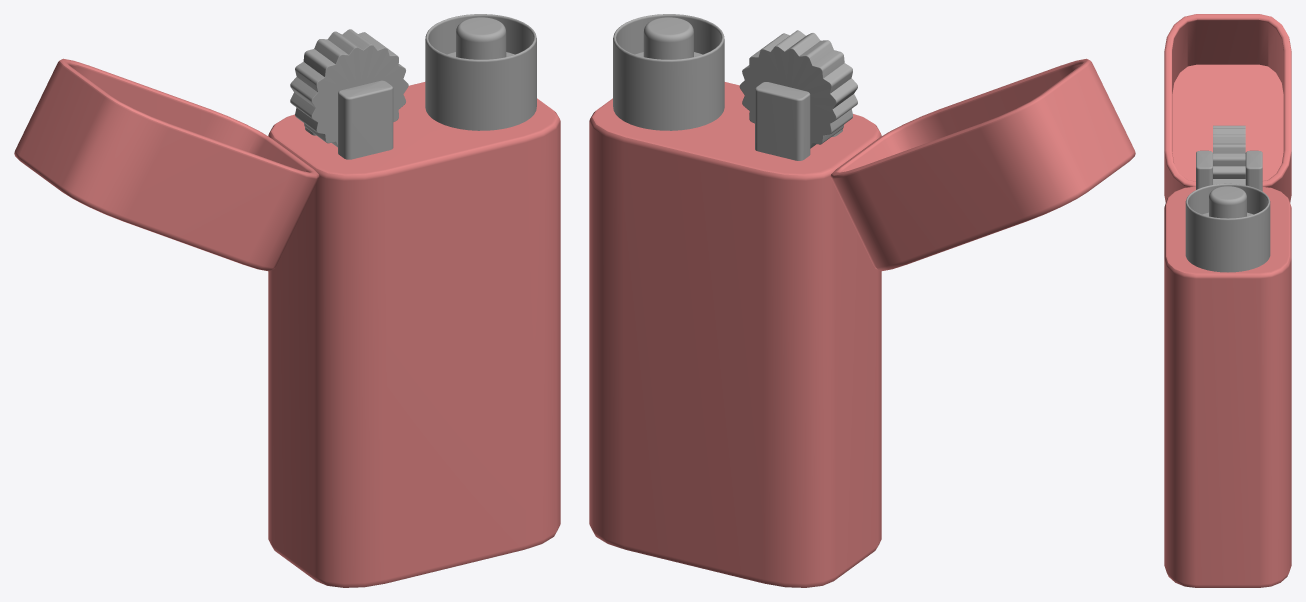
The model's file is briquet.fbx.
The picture shows the model from 3 angles, left to right: view 1: azimuth 30°, elevation 25°; view 2: azimuth 150°, elevation 25°; view 3: azimuth 270°, elevation 25°; orthographic projection. The views are drawn at different scales.
Parts seen in each view (by area): view 1: briquet_pCylinder2; view 2: briquet_pCylinder2; view 3: briquet_pCylinder2.
Part boxes in pixels (left/top/right/bottom): briquet_pCylinder2: left=14, top=14, right=560, bottom=587; briquet_pCylinder2: left=589, top=14, right=1135, bottom=587; briquet_pCylinder2: left=1164, top=14, right=1291, bottom=587.
Bounding box in the file's own units: 1822 × 1894 × 533.
